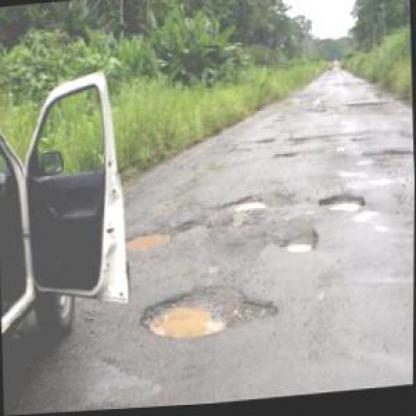pothole: (138, 277, 282, 346), (122, 224, 178, 254), (319, 194, 369, 218), (282, 232, 322, 259), (227, 196, 269, 218), (272, 150, 301, 164)
